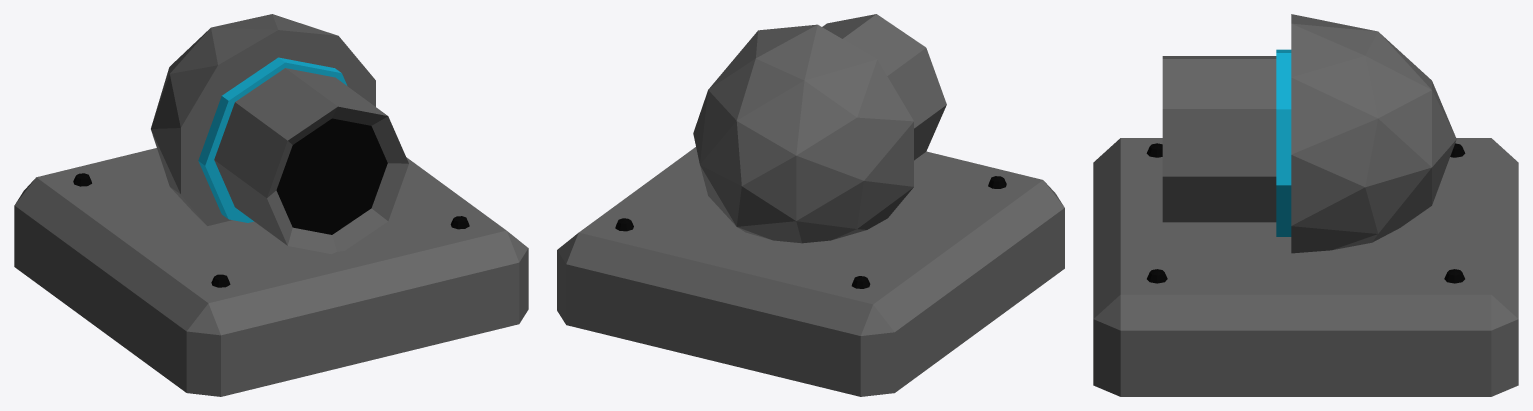
Rendered from turret.glb.
3 renders of one model, left to right at view 1: azimuth 30°, elevation 25°; view 2: azimuth 150°, elevation 25°; view 3: azimuth 270°, elevation 25°, orthographic. The views are drawn at different scales.
Visible parts, largest first — view 1: Cube, Cylinder.001, Icosphere; view 2: Cube, Icosphere, Cylinder.001; view 3: Cube, Icosphere, Cylinder.001.
Boxes of the visible parts, bbox=[...] form: Cube: bbox=[14, 148, 528, 396]; Cylinder.001: bbox=[198, 57, 408, 254]; Icosphere: bbox=[151, 14, 375, 225]; Cube: bbox=[557, 147, 1064, 396]; Icosphere: bbox=[693, 24, 913, 243]; Cylinder.001: bbox=[822, 14, 946, 160]; Cube: bbox=[1093, 138, 1518, 396]; Icosphere: bbox=[1291, 14, 1456, 253]; Cylinder.001: bbox=[1162, 49, 1291, 236].
Bounding box in the file's own units: 2 × 1.47 × 2.
